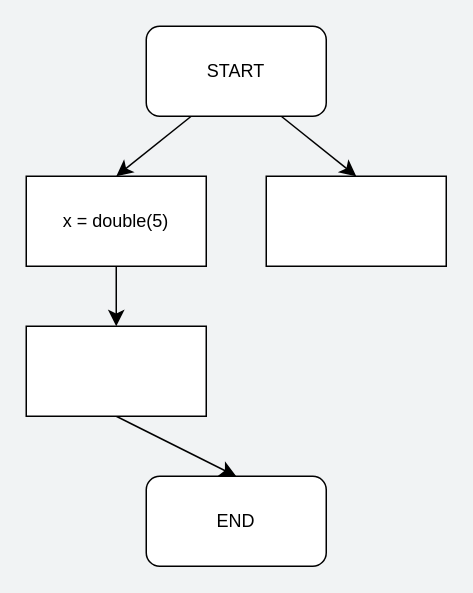
The diagram is 473 pixels wide and 593 high, and some of its shapes have lost their labels. The shapes that lost their labels are listed below. From the top down, each one's centre as x and y in pixels, then its label:
At pixel 355 220: "def double_n(n): return n * 2".
At pixel 115 370: "print(x)".
